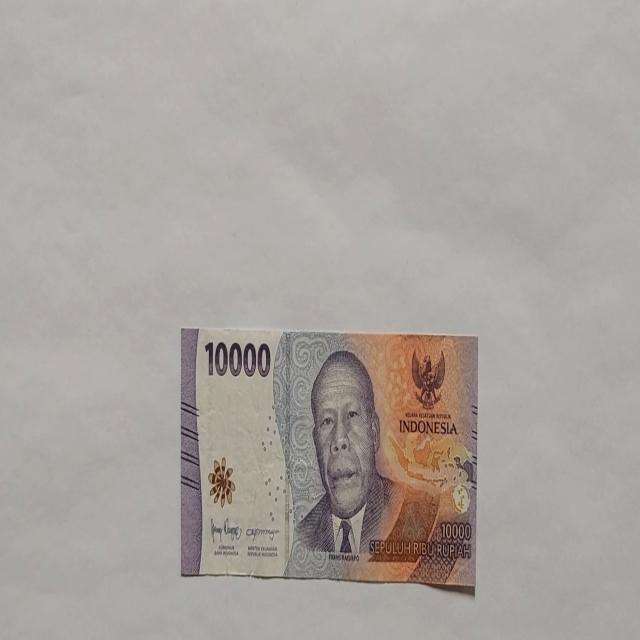sepuluh ribu rupiah: (181, 326, 478, 588)
